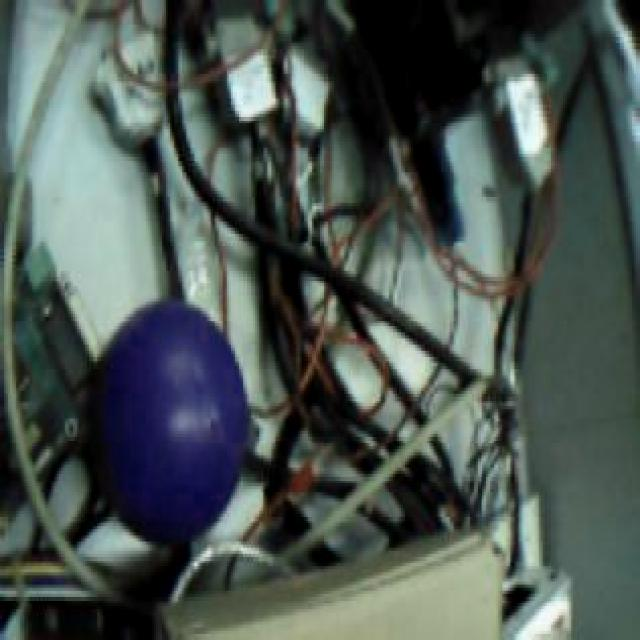BallPurple: (94, 301, 248, 543)
